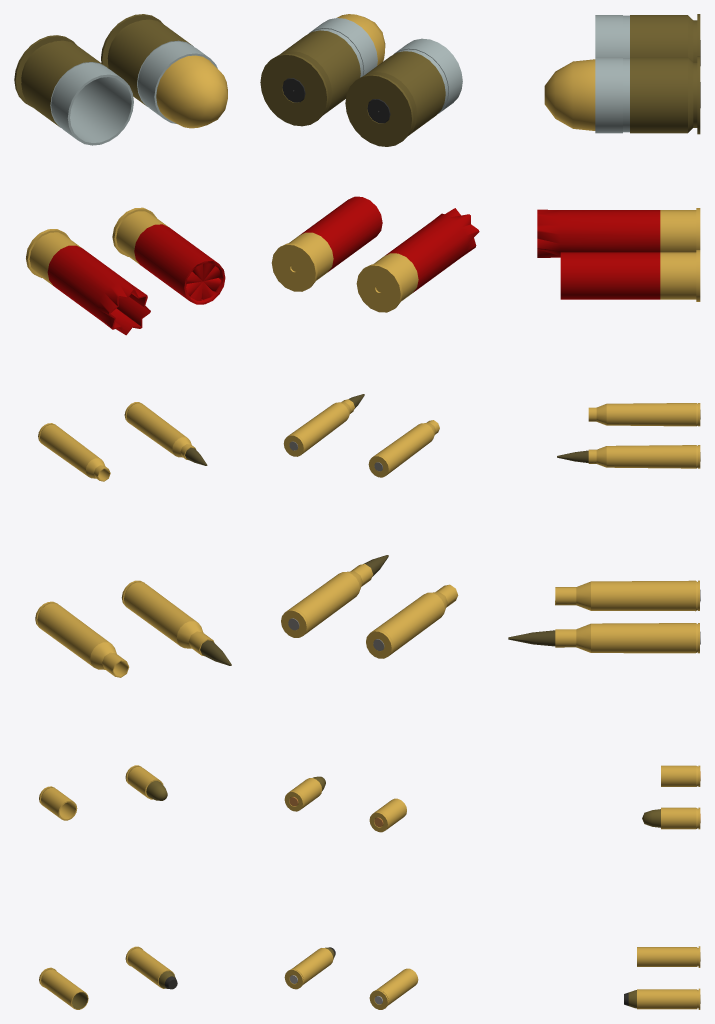
Rendered from Bullets_HighDetail.FBX.
3 renders of one model, left to right at view 1: azimuth 30°, elevation 25°; view 2: azimuth 150°, elevation 25°; view 3: azimuth 270°, elevation 25°, orthographic.
Visible parts, largest first — view 1: Bullet40mm_HD, Empty40mm_HD, Empty12Gauge_HD, Bullet12Gauge_HD, Bullet762_HD, Empty762_HD, Bullet556_HD, Empty556_HD, Bullet357_HD, Empty357_HD, Bullet9mm_HD, Empty9mm_HD; view 2: Bullet40mm_HD, Empty40mm_HD, Empty12Gauge_HD, Bullet12Gauge_HD, Bullet762_HD, Empty762_HD, Bullet556_HD, Empty556_HD, Bullet357_HD, Empty357_HD, Bullet9mm_HD, Empty9mm_HD; view 3: Bullet40mm_HD, Empty12Gauge_HD, Bullet12Gauge_HD, Bullet762_HD, Empty40mm_HD, Empty762_HD, Bullet556_HD, Empty556_HD, Bullet357_HD, Empty357_HD, Bullet9mm_HD, Empty9mm_HD.
Part boxes in pixels (<box>): Bullet40mm_HD: <box>101,14,227,128</box>; Empty40mm_HD: <box>14,35,133,145</box>; Empty12Gauge_HD: <box>26,229,150,335</box>; Bullet12Gauge_HD: <box>112,207,225,304</box>; Bullet762_HD: <box>121,580,231,665</box>; Empty762_HD: <box>35,601,129,677</box>; Bullet556_HD: <box>124,402,207,465</box>; Empty556_HD: <box>38,423,110,481</box>; Bullet357_HD: <box>125,946,177,989</box>; Empty357_HD: <box>39,967,88,1009</box>; Bullet9mm_HD: <box>125,765,167,800</box>; Empty9mm_HD: <box>39,786,77,820</box>; Bullet40mm_HD: <box>260,14,385,126</box>; Empty40mm_HD: <box>345,38,462,146</box>; Empty12Gauge_HD: <box>356,208,479,312</box>; Bullet12Gauge_HD: <box>271,196,382,291</box>; Bullet762_HD: <box>281,555,388,637</box>; Empty762_HD: <box>366,584,458,658</box>; Bullet556_HD: <box>283,394,364,456</box>; Empty556_HD: <box>368,420,439,477</box>; Bullet357_HD: <box>284,947,335,989</box>; Empty357_HD: <box>369,968,418,1009</box>; Bullet9mm_HD: <box>284,776,325,811</box>; Empty9mm_HD: <box>369,798,406,832</box>; Bullet40mm_HD: <box>544,56,700,134</box>; Empty12Gauge_HD: <box>537,208,700,257</box>; Bullet12Gauge_HD: <box>560,250,700,301</box>; Bullet762_HD: <box>508,623,700,653</box>; Empty40mm_HD: <box>595,14,700,65</box>; Empty762_HD: <box>555,580,700,611</box>; Bullet556_HD: <box>557,445,700,468</box>; Empty556_HD: <box>588,403,700,426</box>; Bullet357_HD: <box>624,988,700,1009</box>; Empty357_HD: <box>637,946,700,967</box>; Bullet9mm_HD: <box>642,807,700,829</box>; Empty9mm_HD: <box>661,765,700,786</box>.
Size of the model in its own units: 8.93 by 52.5 by 9.63.
